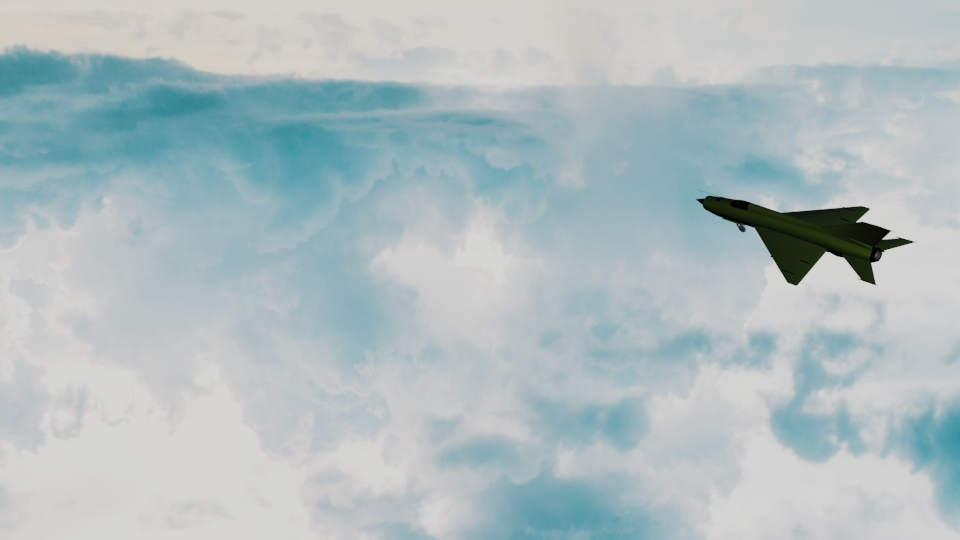plane: (697, 189, 907, 291)
